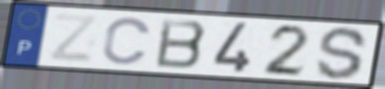2: (261, 24, 315, 78)
4: (209, 21, 253, 75)
B: (153, 17, 210, 71)
C: (100, 15, 154, 67)
S: (314, 25, 371, 82)
Z: (47, 12, 101, 65)
